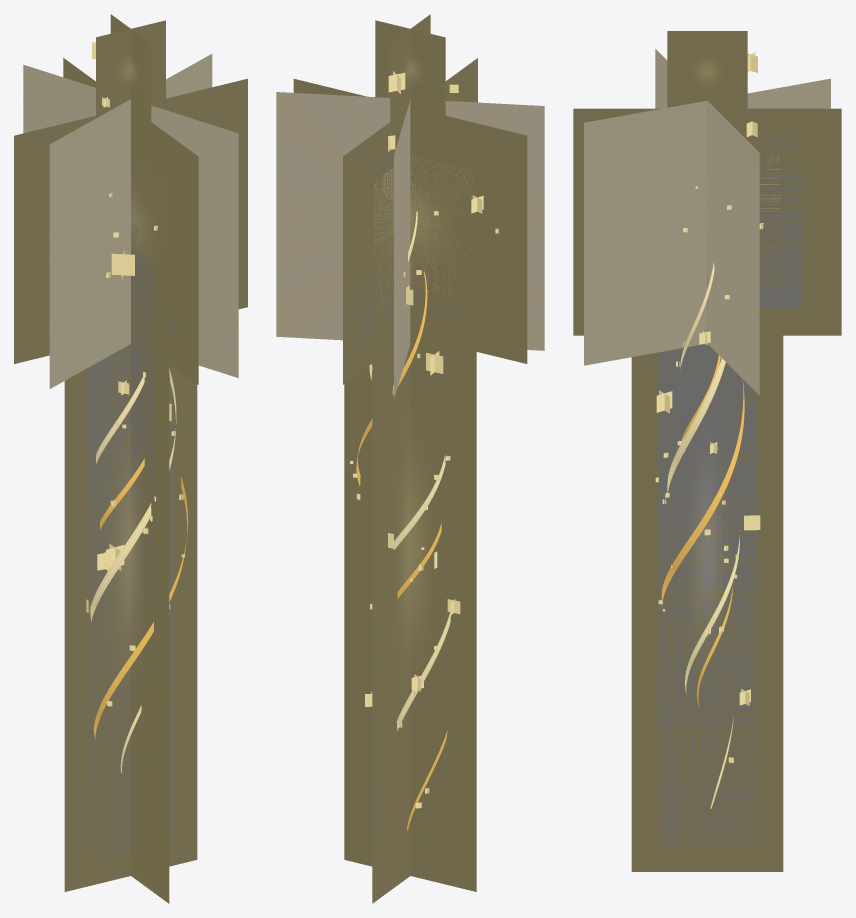
The model's file is SeraphAura.glb.
The picture shows the model from 3 angles, left to right: view 1: azimuth 30°, elevation 25°; view 2: azimuth 150°, elevation 25°; view 3: azimuth 270°, elevation 25°; orthographic projection.
Parts seen in each view (by area): view 1: GoldAura, WhiteRays, WhiteAura, EnergyRibbons, EnergyRibbonsGold, Sparkles; view 2: GoldAura, WhiteRays, WhiteAura, Sparkles, EnergyRibbons, EnergyRibbonsGold, WhiteHalo; view 3: GoldAura, WhiteRays, WhiteAura, EnergyRibbons, EnergyRibbonsGold, Sparkles, Particles.
Part boxes in pixels (x1,y1,x2,y2): GoldAura: (14, 14, 247, 903); WhiteRays: (23, 54, 238, 388); WhiteAura: (49, 116, 212, 861); EnergyRibbons: (90, 368, 176, 773); EnergyRibbonsGold: (93, 458, 187, 739); Sparkles: (86, 42, 171, 612); GoldAura: (293, 14, 527, 903); WhiteRays: (276, 92, 544, 398); WhiteAura: (363, 136, 492, 855); Sparkles: (365, 71, 483, 706); EnergyRibbons: (369, 211, 450, 730); EnergyRibbonsGold: (356, 272, 447, 830); WhiteHalo: (374, 155, 473, 307); GoldAura: (573, 31, 841, 871); WhiteRays: (584, 49, 830, 395); WhiteAura: (658, 137, 801, 847); EnergyRibbons: (667, 261, 740, 808); EnergyRibbonsGold: (661, 355, 744, 706); Sparkles: (656, 51, 760, 705); Particles: (655, 186, 763, 763).
Size of the model in its own units: 1.5 by 5.19 by 1.5.
8 materials, 5 textured.
